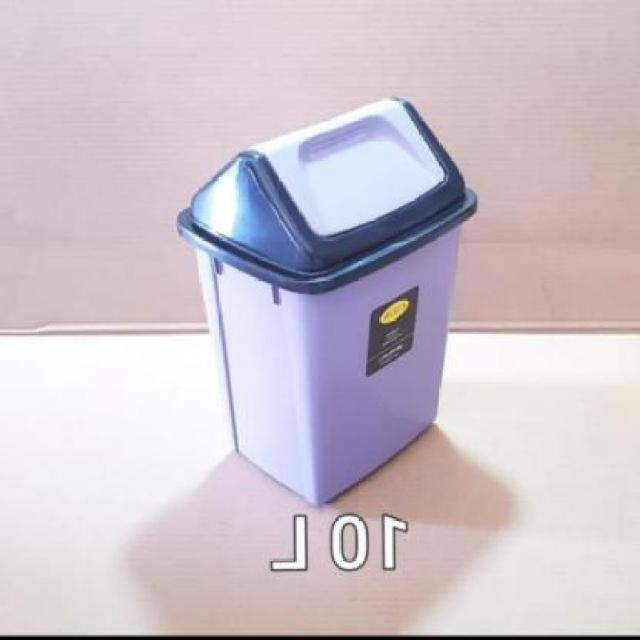garbage container: (162, 84, 488, 514)
